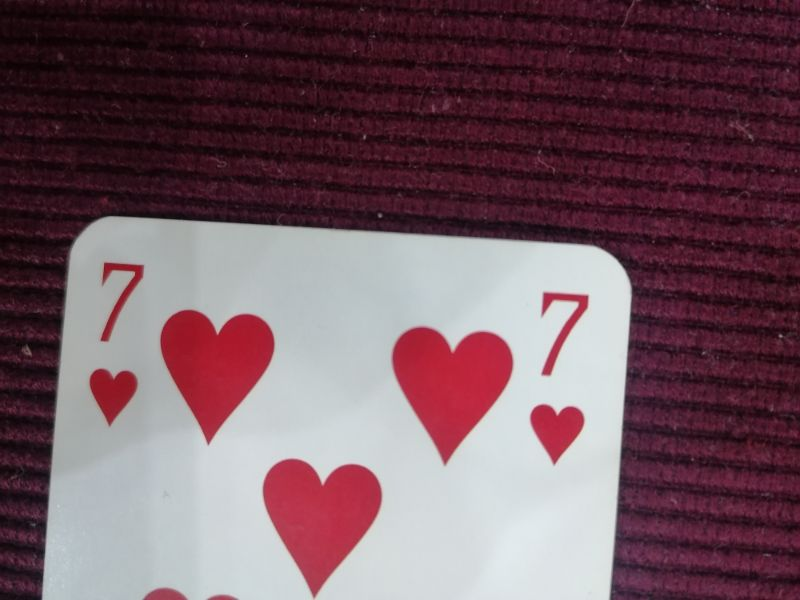7h: (526, 285, 592, 472), (88, 255, 149, 432)
